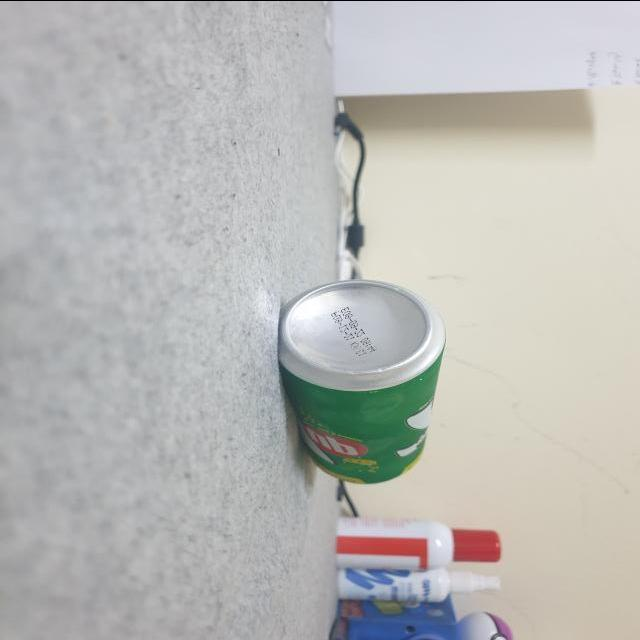can: (284, 281, 452, 489)
